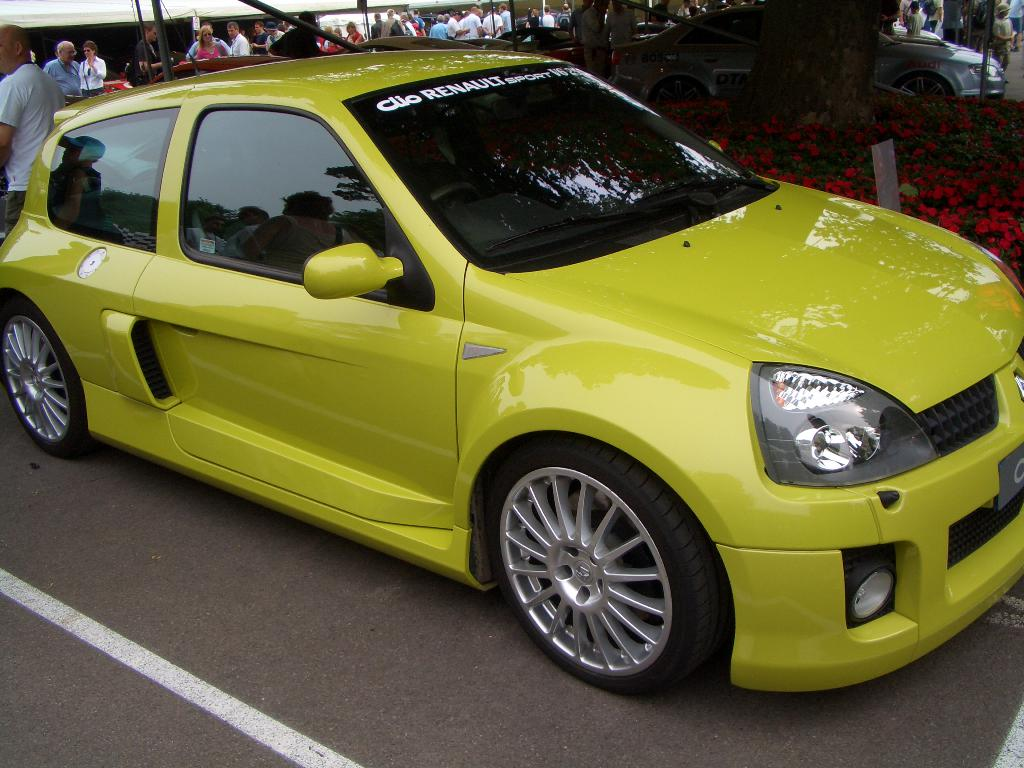person: (236, 190, 361, 260)
